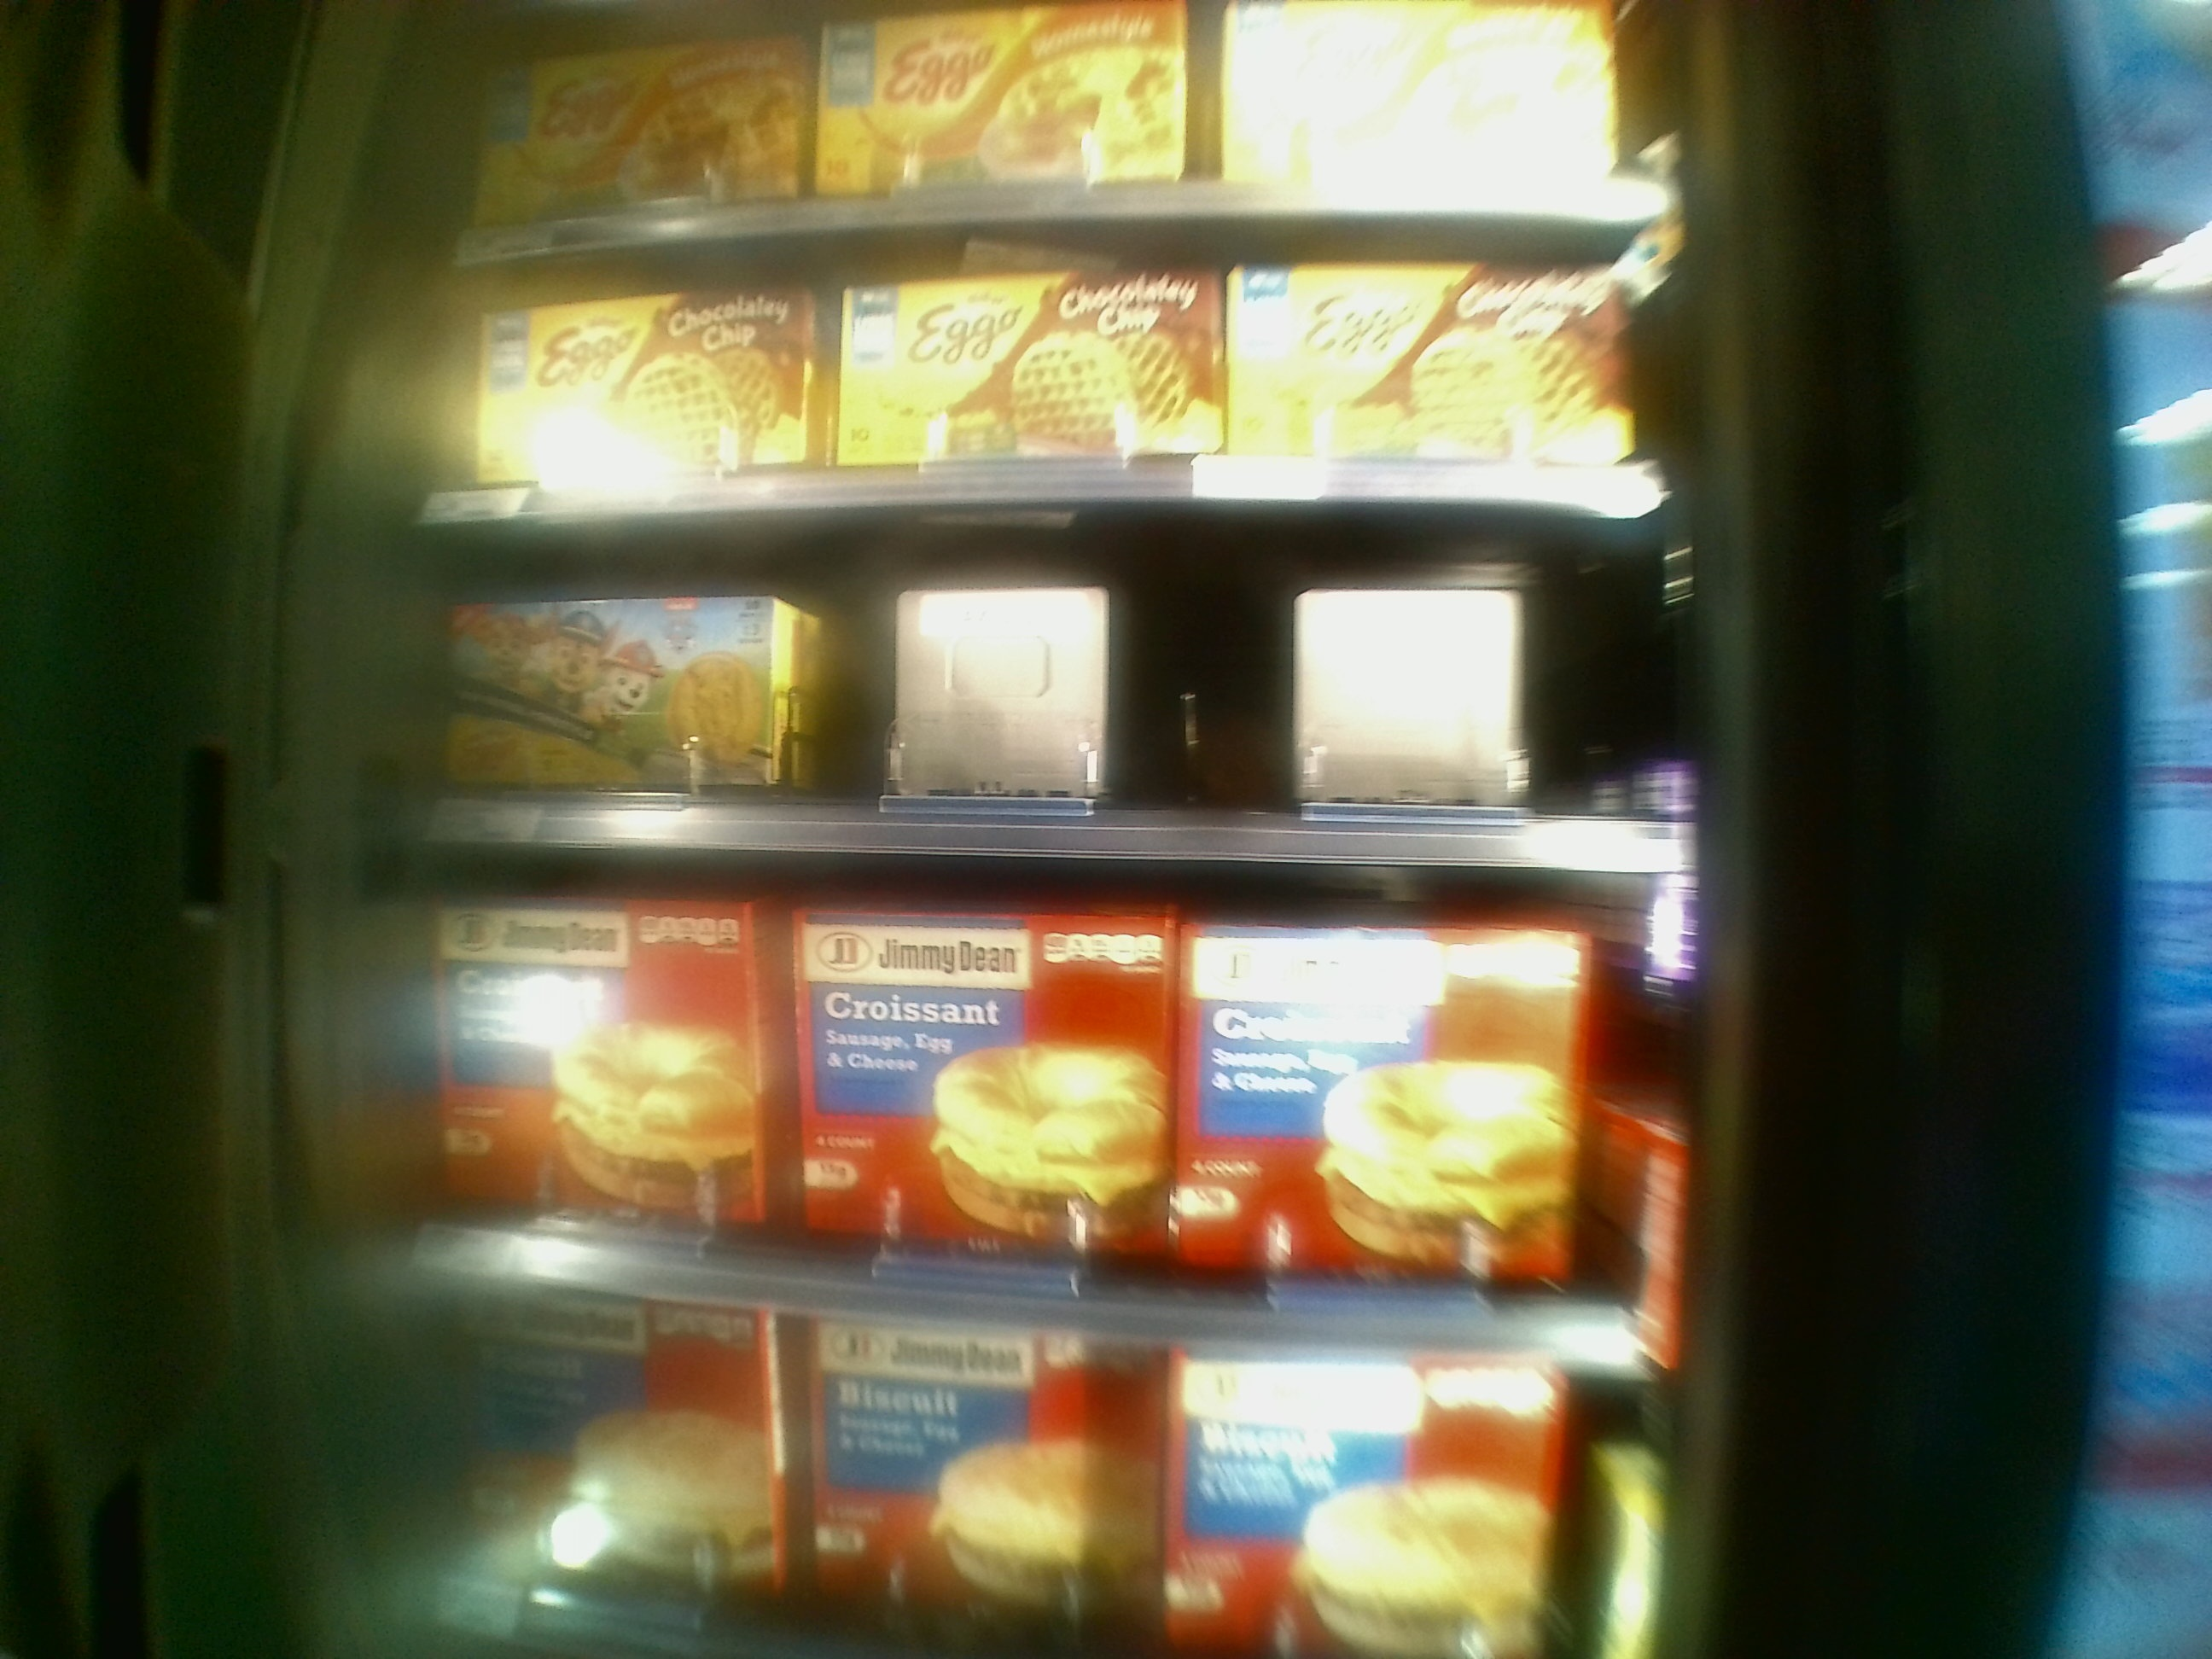shelf: (444, 849, 1689, 1337), (432, 512, 1696, 877), (439, 216, 1684, 507)
